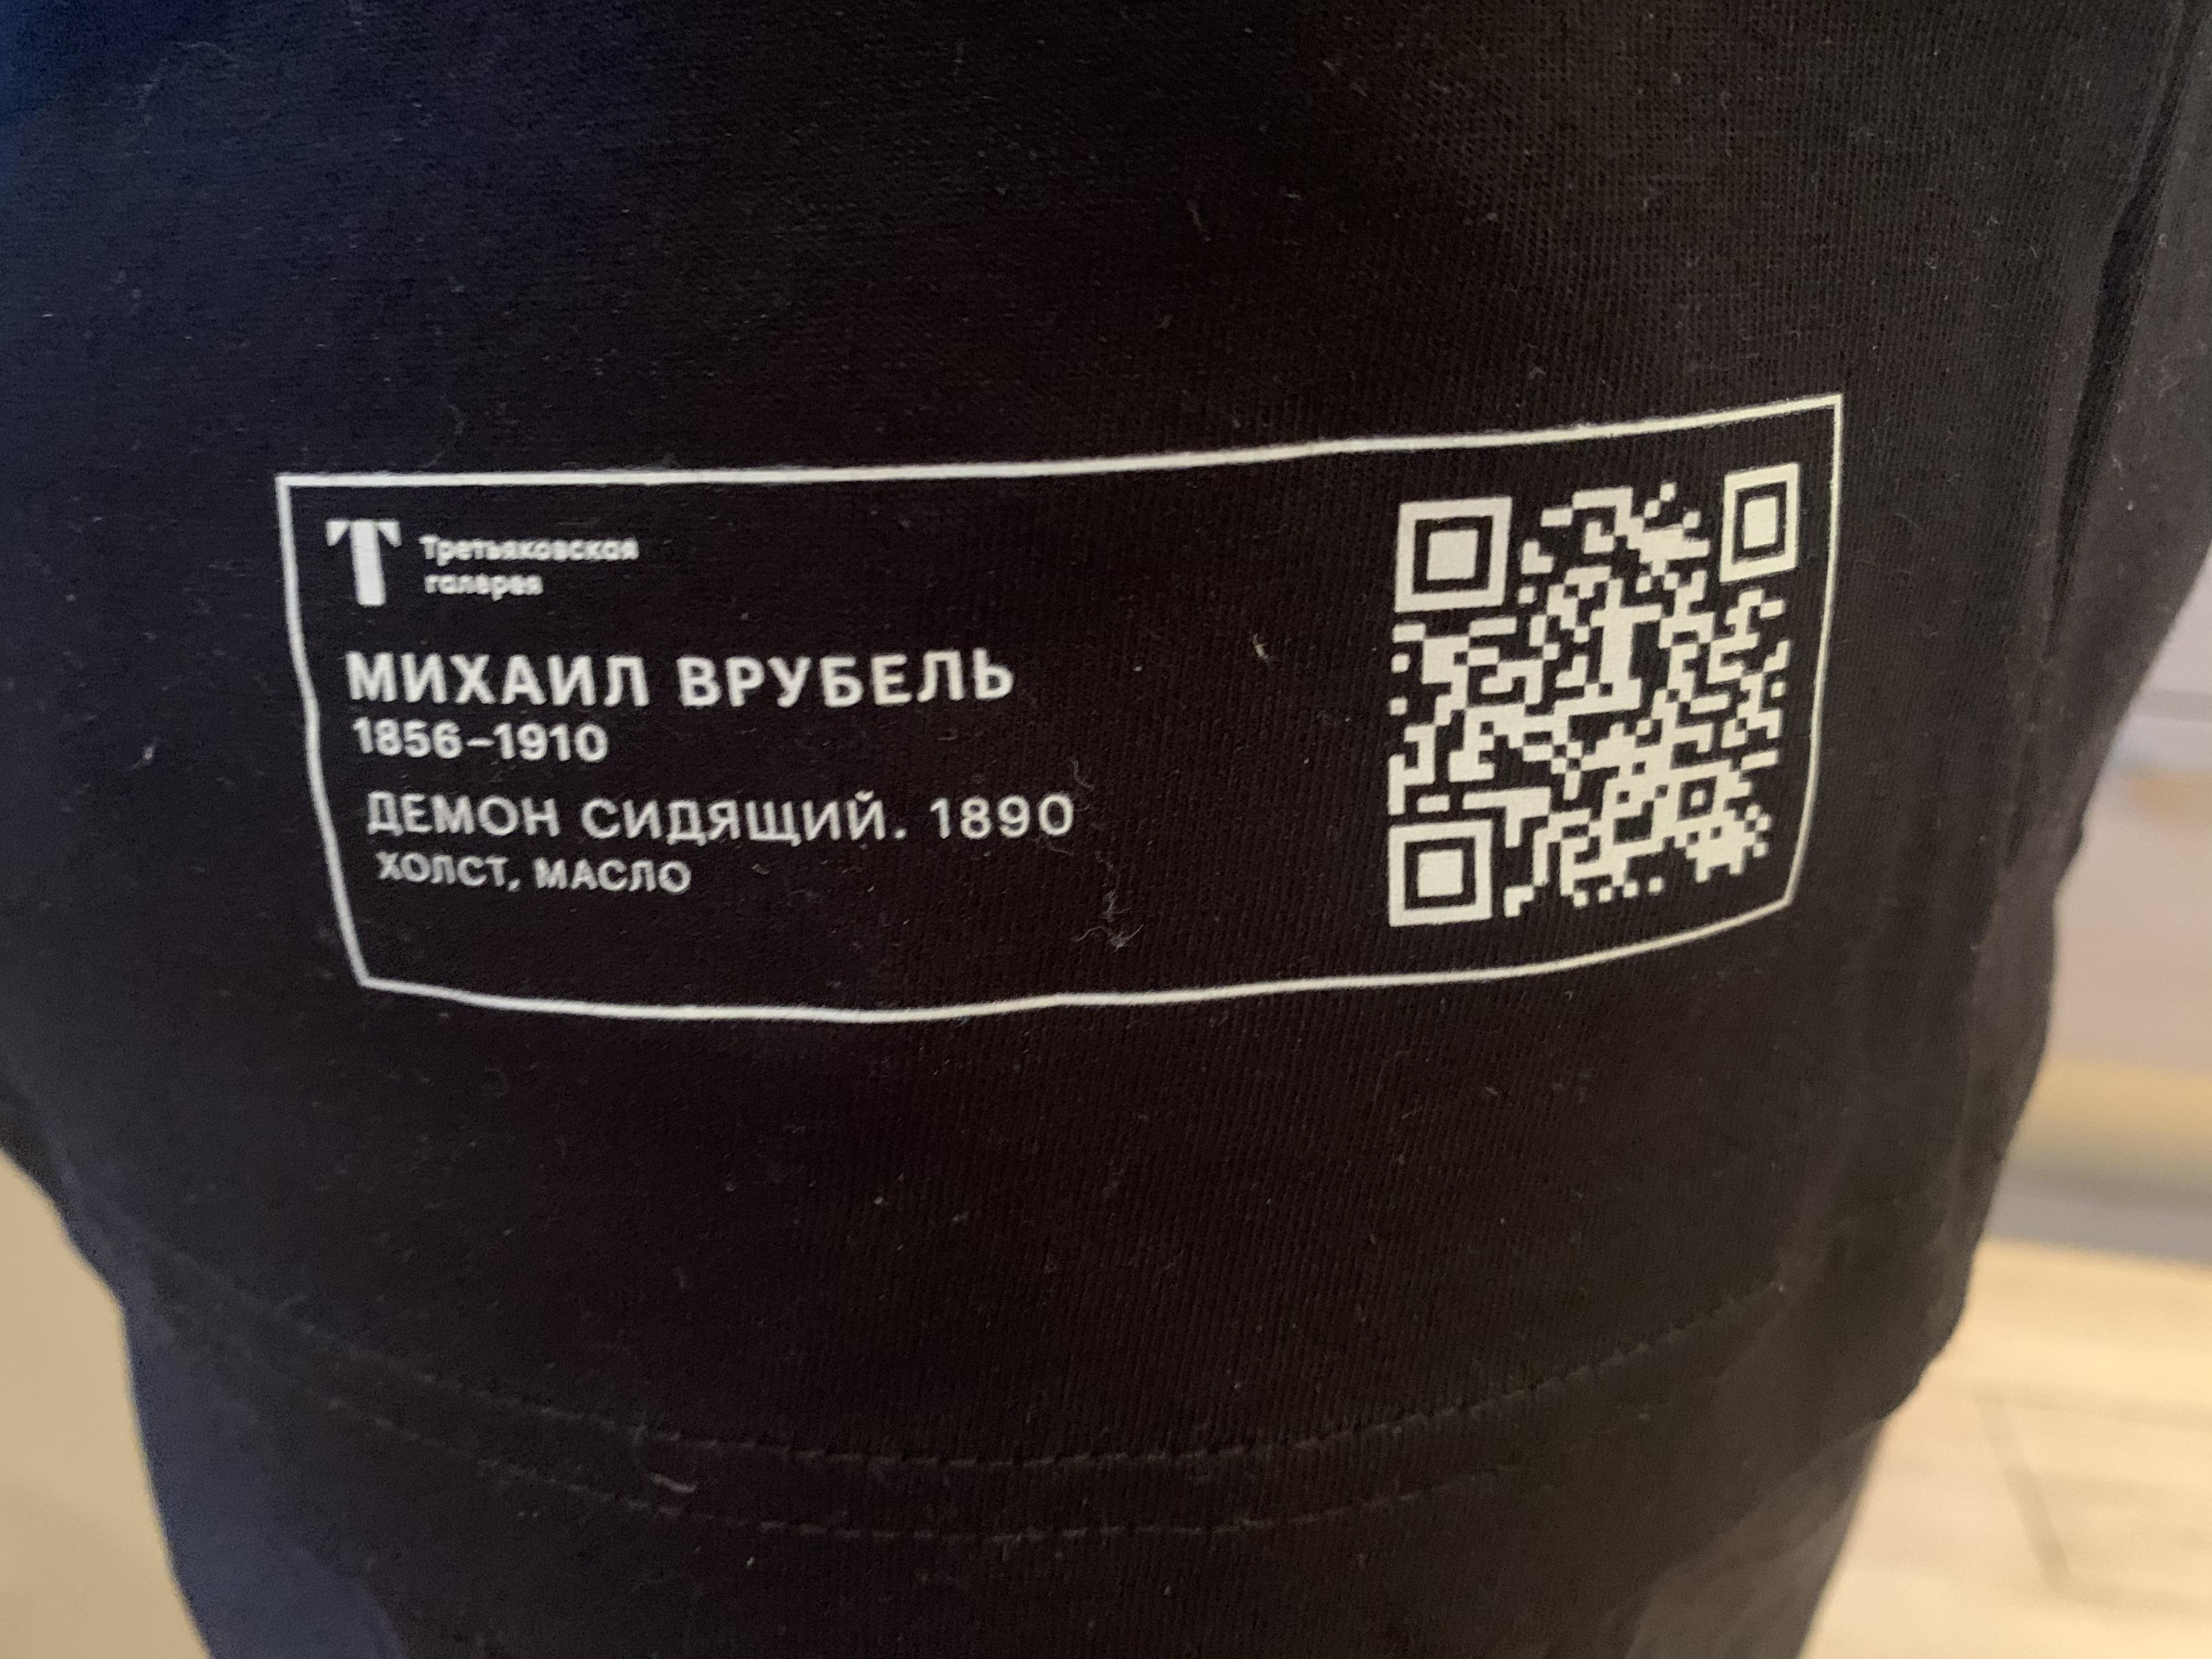qrcode: (1388, 467, 1797, 927)
